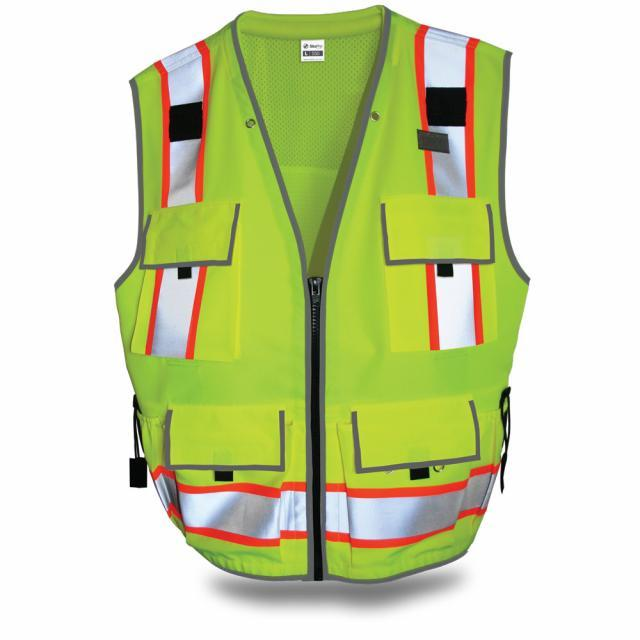reflective_jacket: (99, 8, 563, 614)
